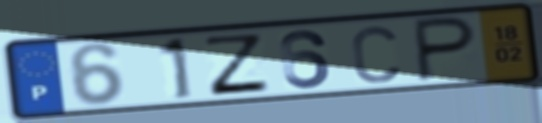1: (156, 35, 195, 101)
6: (66, 39, 128, 110), (277, 28, 334, 90)
C: (348, 23, 403, 86)
P: (411, 14, 480, 84)
Z: (202, 33, 273, 98)
